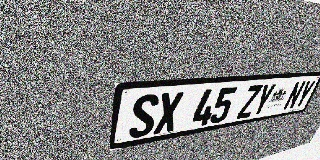4: (190, 88, 220, 128)
5: (209, 87, 237, 124)
N: (282, 81, 306, 111)
S: (128, 93, 160, 139)
X: (153, 91, 184, 135)
Y: (250, 83, 277, 117), (293, 80, 317, 109)
Z: (236, 85, 263, 119)
